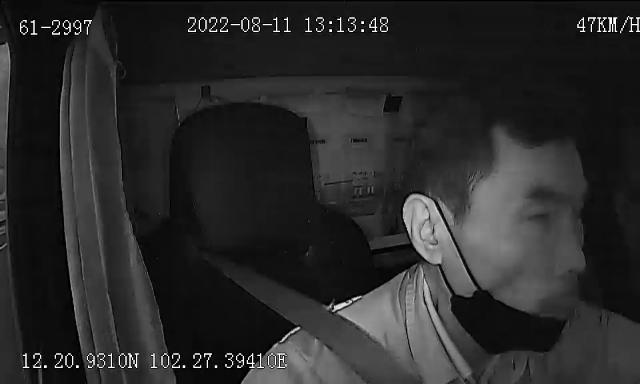Seatbelt: (234, 272, 416, 384)
